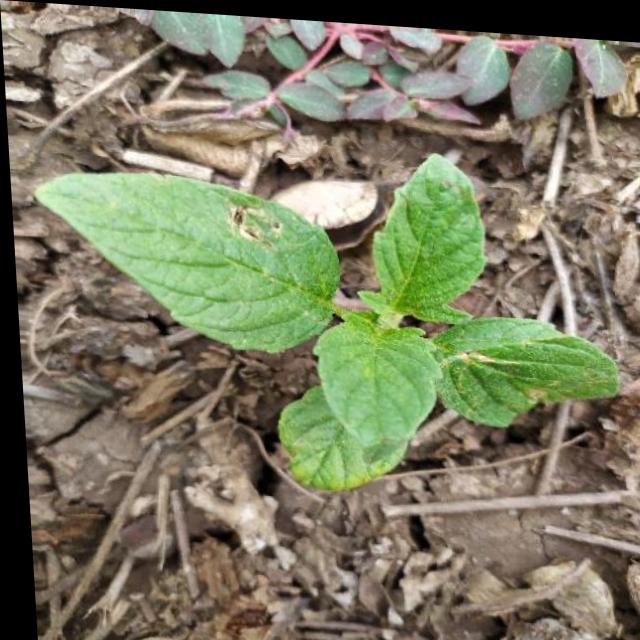crop: (26, 126, 628, 502)
